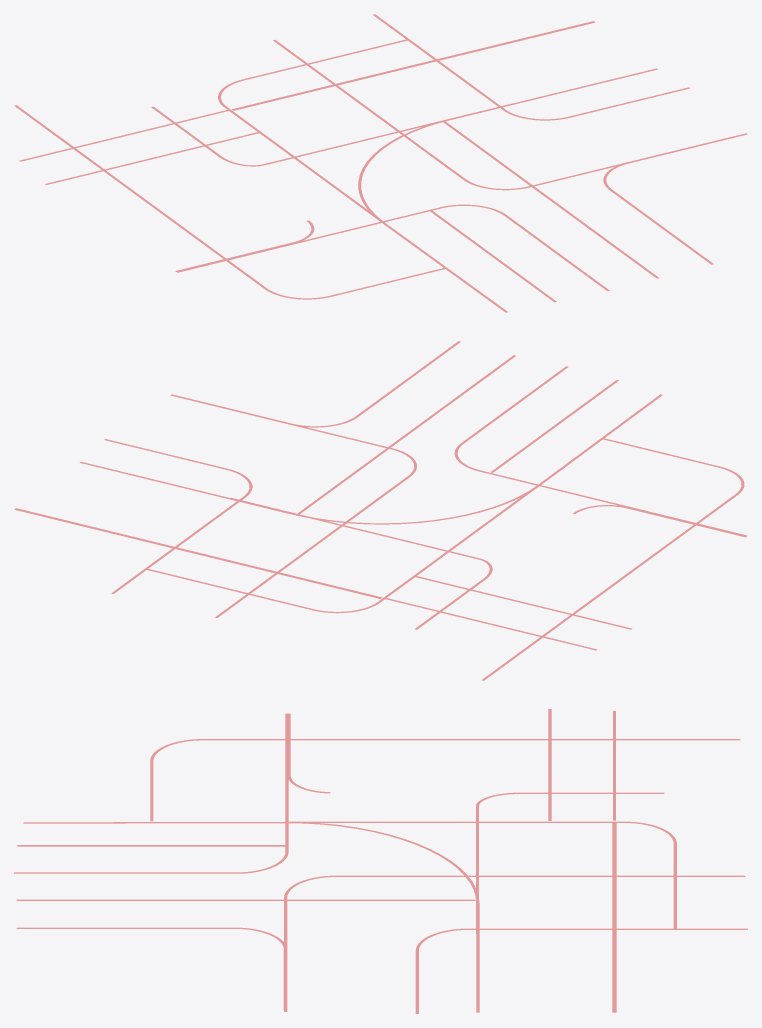
Rendered from Traffic.gltf.
3 renders of one model, top to bottom at view 1: azimuth 30°, elevation 25°; view 2: azimuth 150°, elevation 25°; view 3: azimuth 270°, elevation 25°, orthographic. The views are drawn at different scales.
Visible parts, largest first — view 1: Traffic; view 2: Traffic; view 3: Traffic.
Boxes of the visible parts, <box> form: Traffic: <box>14,14,747,312</box>; Traffic: <box>14,341,747,680</box>; Traffic: <box>14,709,747,1013</box>.
Size of the model in its own units: 159 by 0.295 by 161.
